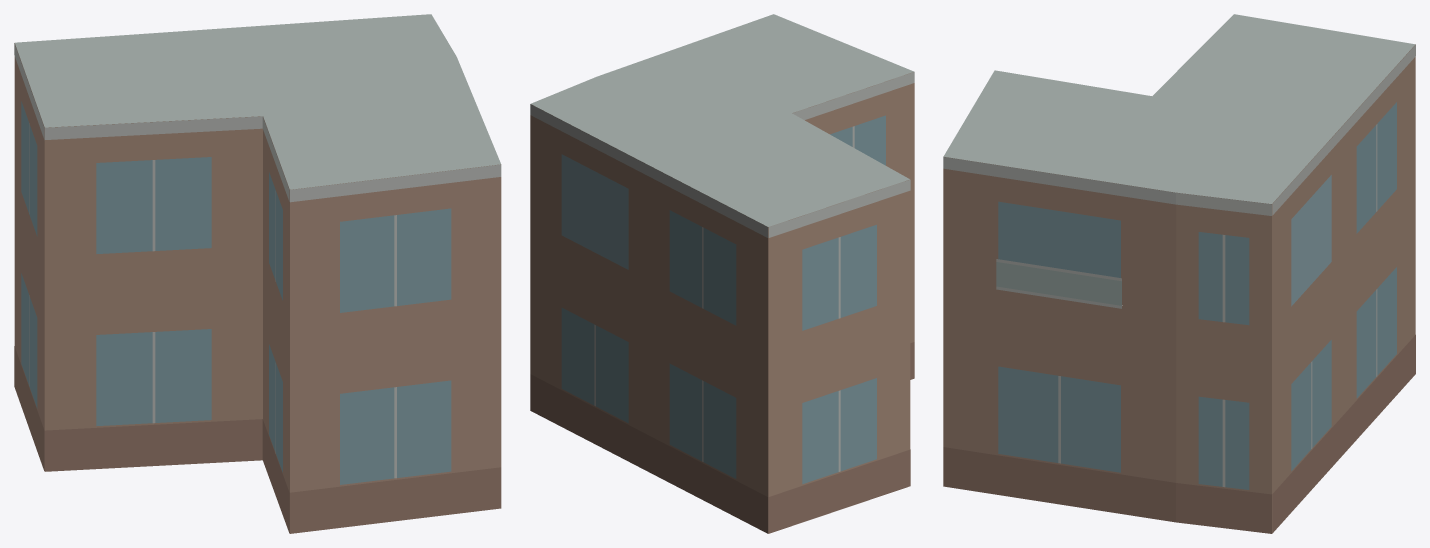
The model's file is survey-upis-33029020.glb.
3 views of the same model, side by side, from view 1: azimuth 30°, elevation 25°; view 2: azimuth 150°, elevation 25°; view 3: azimuth 270°, elevation 25° (orthographic). The views are drawn at different scales.
Parts seen in each view (by area): view 1: survey-upis-33029020.tmp; view 2: survey-upis-33029020.tmp; view 3: survey-upis-33029020.tmp.
Boxes of the visible parts, x1,y1,x2,y2 form: survey-upis-33029020.tmp: [14, 14, 501, 533]; survey-upis-33029020.tmp: [530, 14, 914, 533]; survey-upis-33029020.tmp: [943, 14, 1415, 533].
Bounding box in the file's own units: 8.29 × 6.7 × 8.71.
